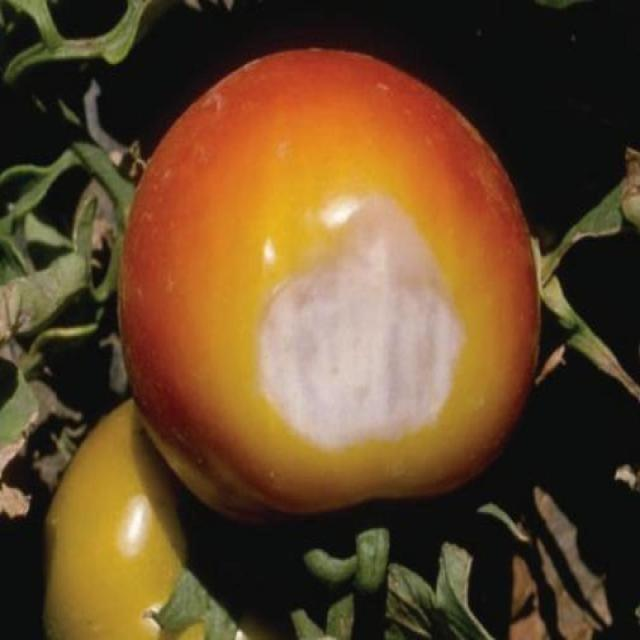Sunscald Fruit: (162, 103, 318, 297)
